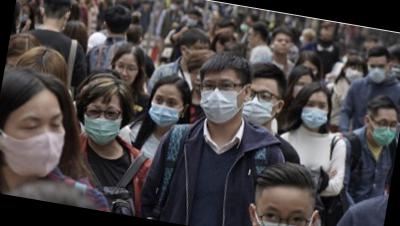with_mask: (197, 72, 247, 127), (79, 99, 126, 148), (240, 82, 280, 129), (255, 199, 315, 226), (145, 91, 184, 130), (298, 96, 332, 133), (368, 113, 400, 148), (365, 58, 390, 84), (291, 77, 313, 99), (344, 64, 366, 84), (185, 13, 200, 28)
without_mask: (112, 59, 141, 87), (187, 65, 206, 94), (272, 34, 293, 55), (245, 30, 259, 48), (320, 25, 334, 38)
